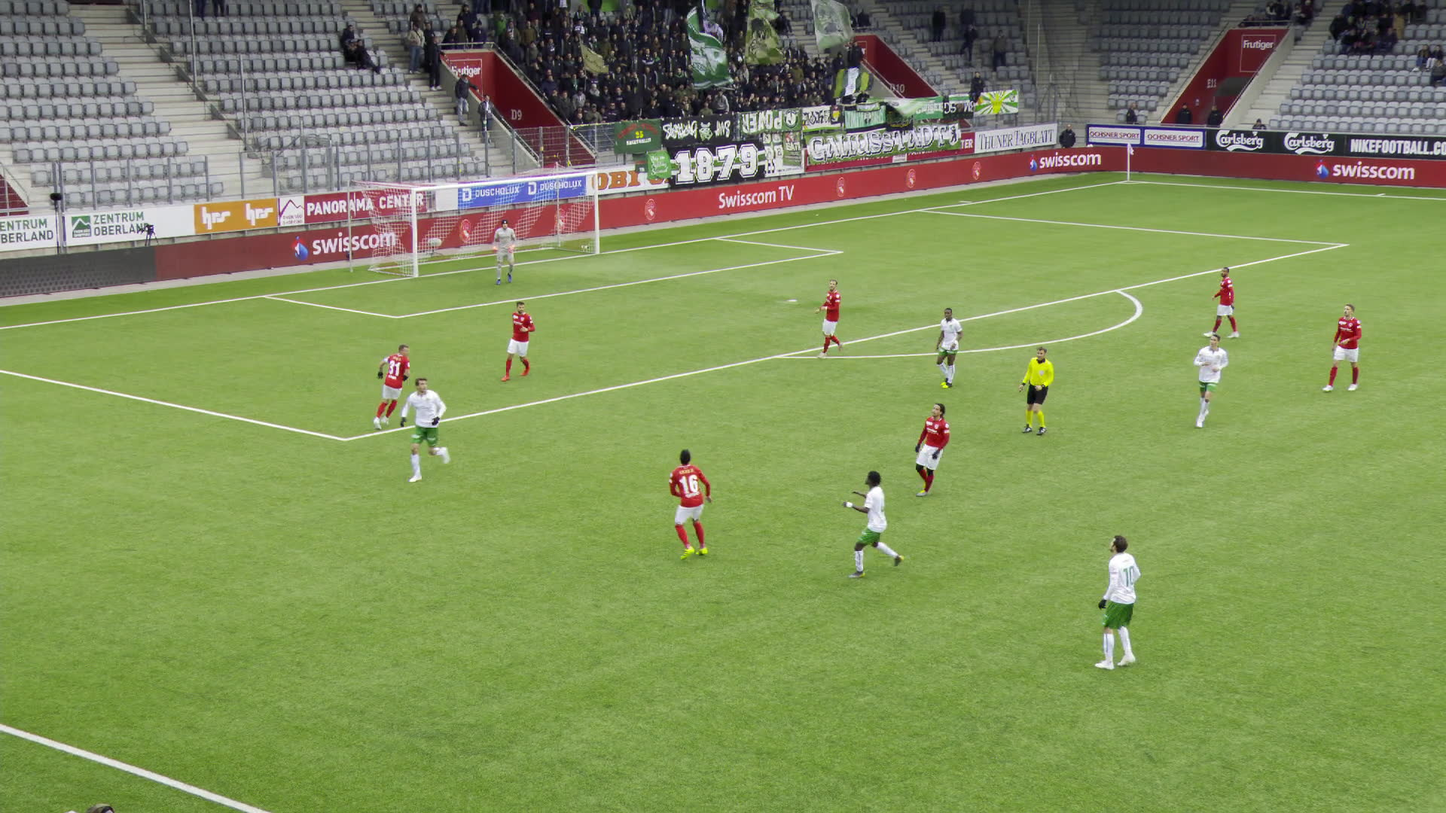player: (1089, 531, 1142, 670), (840, 470, 905, 580), (400, 373, 453, 481), (664, 447, 711, 561), (908, 400, 953, 498), (365, 345, 412, 431), (1322, 303, 1362, 394), (1190, 333, 1229, 426), (499, 300, 536, 382), (812, 278, 848, 361), (1203, 265, 1239, 343), (931, 306, 963, 389), (488, 218, 517, 286)
referee: (1014, 344, 1055, 435)
